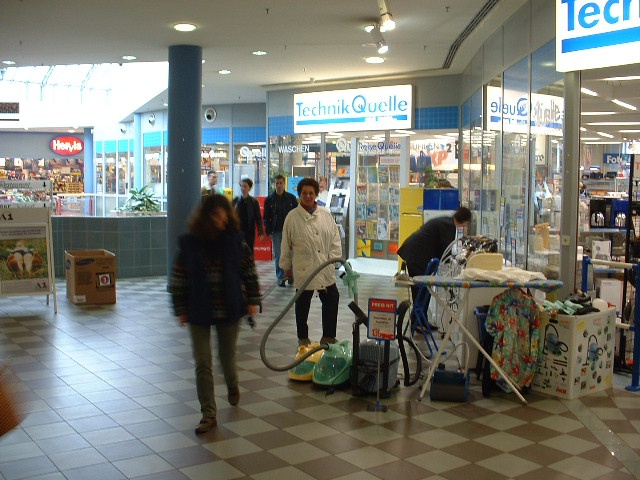person: (169, 188, 258, 435), (278, 179, 340, 351)
